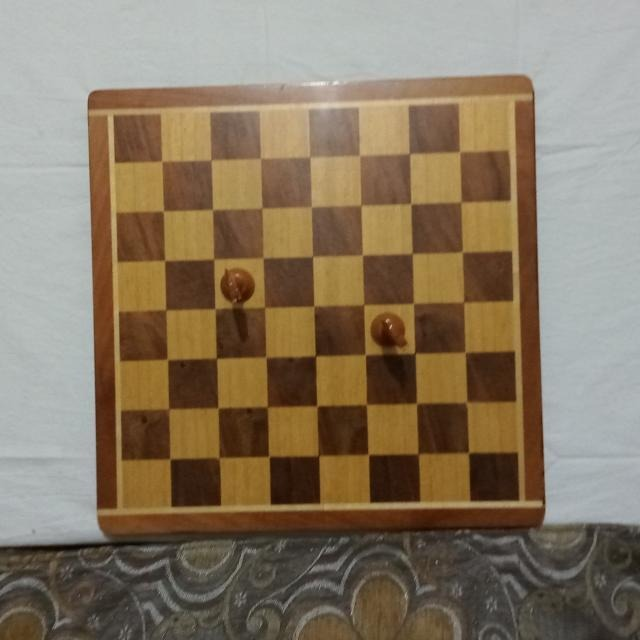white-knight: (367, 310, 408, 350), (218, 266, 256, 306)
